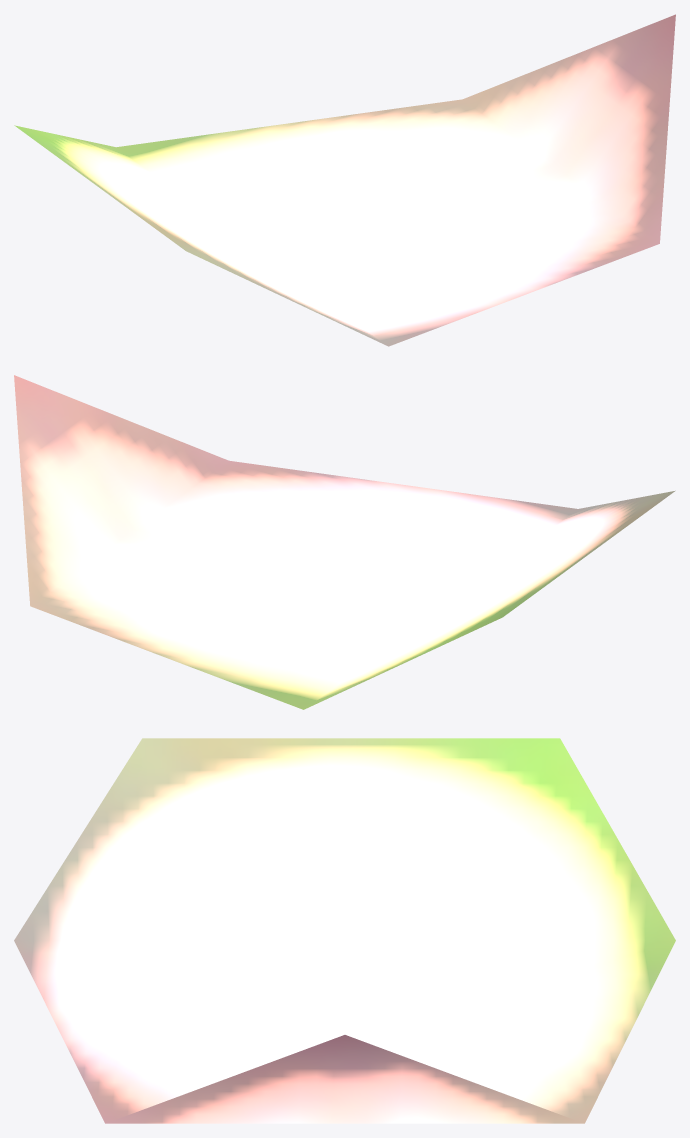
The model's file is dead_leaf_03_SM.fbx.
3 renders of one model, top to bottom at view 1: azimuth 30°, elevation 25°; view 2: azimuth 150°, elevation 25°; view 3: azimuth 270°, elevation 25°, orthographic. The views are drawn at different scales.
Visible parts, largest first — view 1: dead_leaf_03_SM_LOD0; view 2: dead_leaf_03_SM_LOD0; view 3: dead_leaf_03_SM_LOD0.
Part boxes in pixels (x1,y1,x2,y2): dead_leaf_03_SM_LOD0: (14, 14, 675, 346); dead_leaf_03_SM_LOD0: (14, 375, 675, 709); dead_leaf_03_SM_LOD0: (14, 738, 675, 1123).
Size of the model in its own units: 34.77 by 28.61 by 7.49.
1 material, 1 textured.
